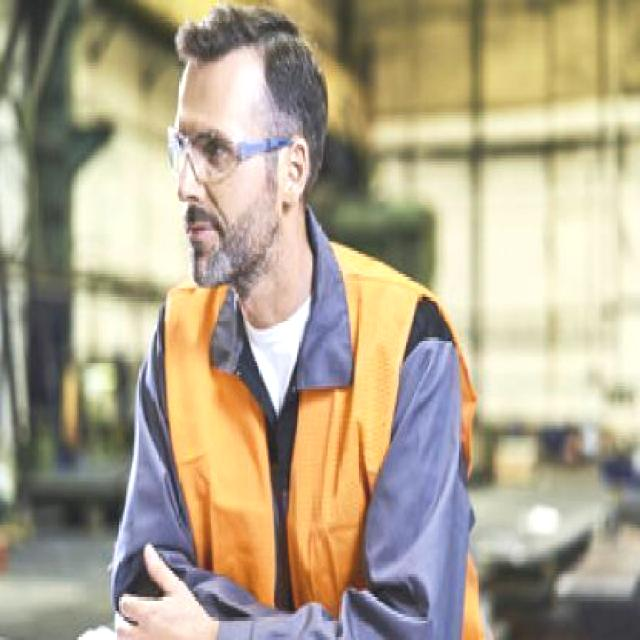face_nomask: (160, 126, 248, 252)
glasses: (162, 121, 292, 176)
hand_noglove: (104, 537, 216, 640)
head_nohelmet: (172, 10, 319, 99)
person: (92, 17, 490, 640)
vest: (177, 238, 454, 604)
